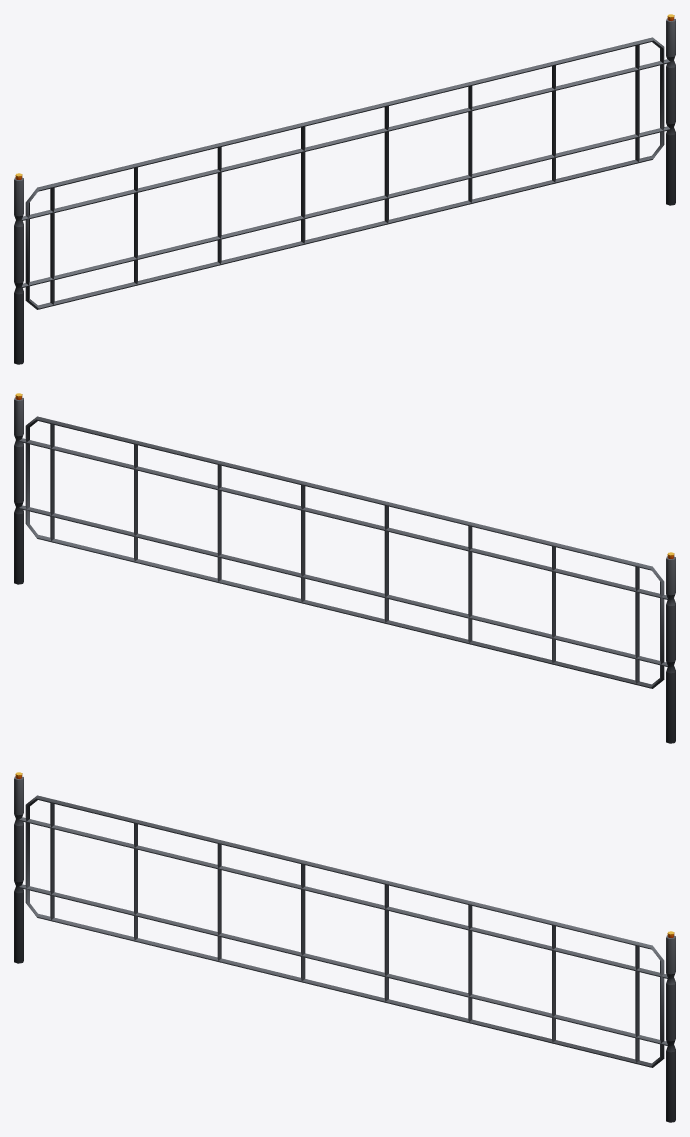
Rendered from tp_metal_fence_01a.glb.
3 views of the same model, one above another, from view 1: azimuth 30°, elevation 25°; view 2: azimuth 150°, elevation 25°; view 3: azimuth 330°, elevation 25° (orthographic).
Parts seen in each view (by area): view 1: TP_Metal_Fence_01A; view 2: TP_Metal_Fence_01A; view 3: TP_Metal_Fence_01A.
Boxes of the visible parts, x1,y1,x2,y2 form: TP_Metal_Fence_01A: [14, 14, 675, 364]; TP_Metal_Fence_01A: [14, 393, 675, 743]; TP_Metal_Fence_01A: [14, 772, 675, 1122].
Size of the model in its own units: 7.91 by 2.15 by 0.1036.
1 material, 1 textured.
